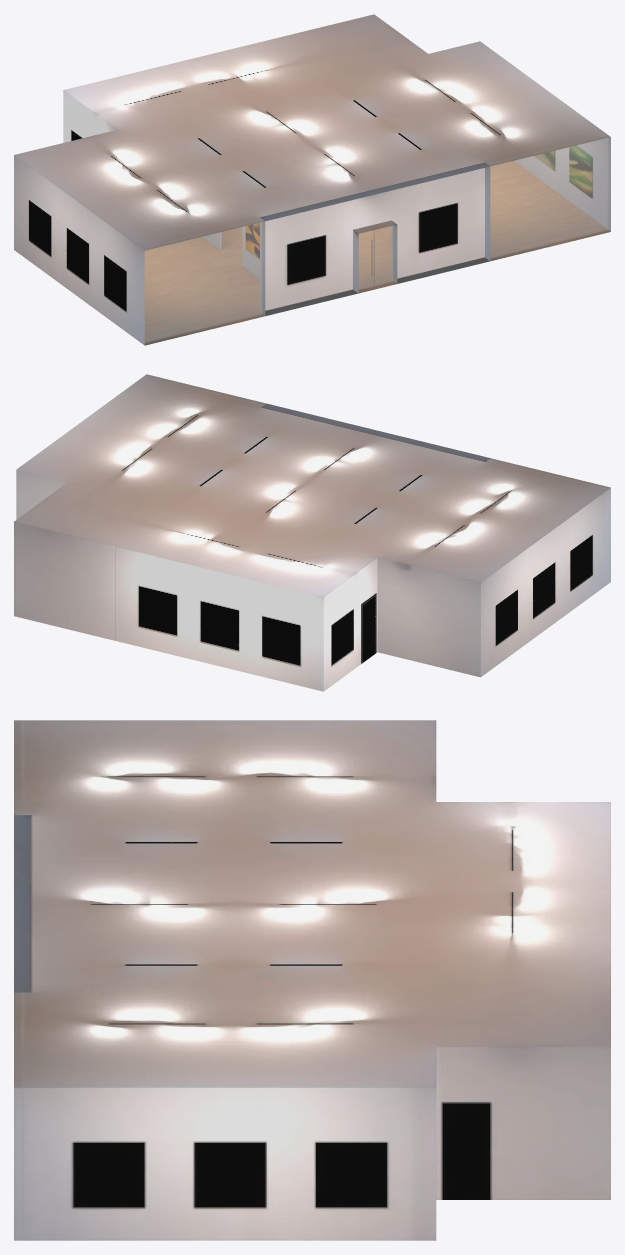
The picture shows the model from 3 angles, top to bottom: view 1: azimuth 30°, elevation 25°; view 2: azimuth 150°, elevation 25°; view 3: azimuth 270°, elevation 25°; orthographic projection. The views are drawn at different scales.
Parts seen in each view (by area): view 1: Floor, Glass, Paintings; view 2: Floor; view 3: Floor, Glass.
Part boxes in pixels (box(x1,y1,x2,y2)): Floor: box(14, 14, 610, 345); Glass: box(145, 138, 608, 342); Paintings: box(245, 145, 592, 258); Floor: box(14, 374, 610, 691); Floor: box(14, 720, 610, 1240); Glass: box(21, 1047, 439, 1240).
Size of what is drawn, in the model's own units: 18 by 3.5 by 12.37.
6 materials, 4 textured.
